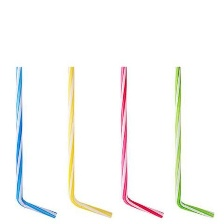drinking_straw: (114, 63, 168, 221), (8, 63, 62, 221), (63, 63, 115, 221), (171, 63, 218, 221)
